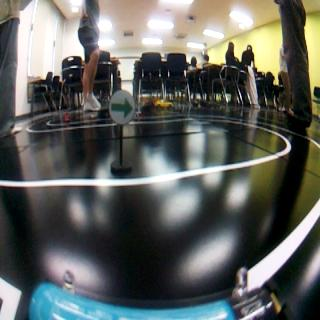right: (110, 90, 135, 126)
